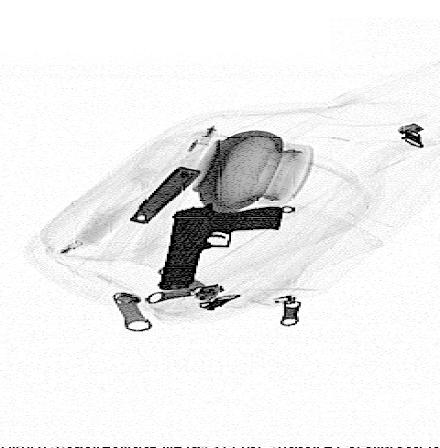Gun: (154, 201, 286, 291)
